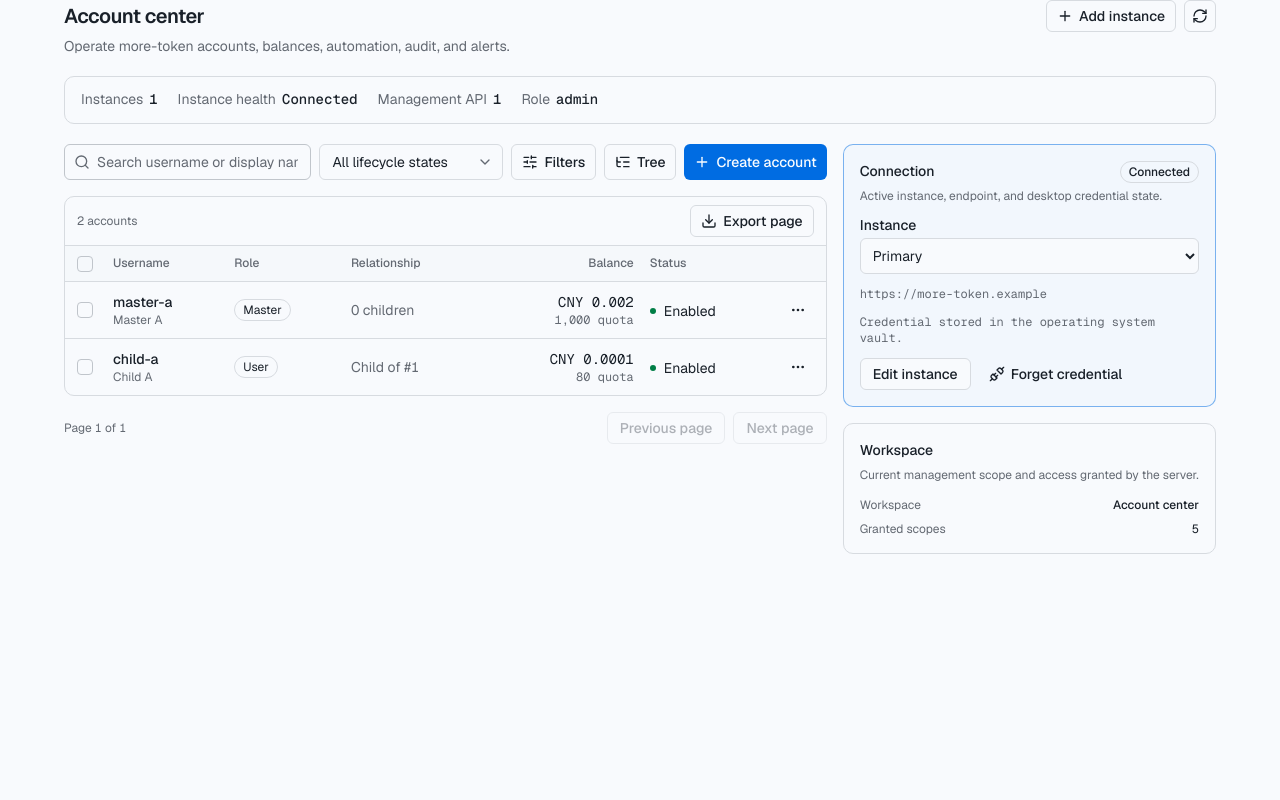
clears a shown temporary password so the next Create account starts blank
expect the table is shown: met, box x1=65 y1=246 x2=826 y2=395
Click the button "Create account": (756, 162) x1=684 y1=144 x2=827 y2=180
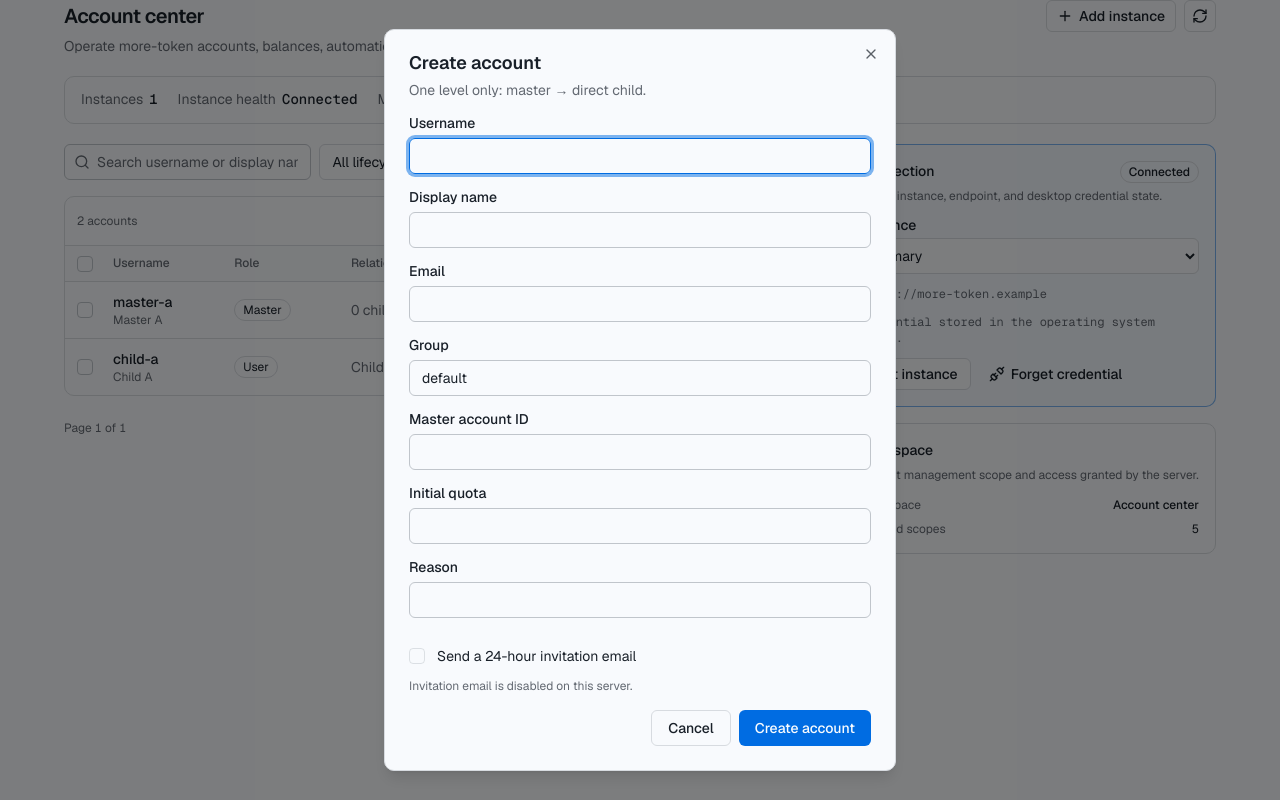
In the field labelled "Username": (640, 156) x1=409 y1=138 x2=871 y2=174, type "new-child"
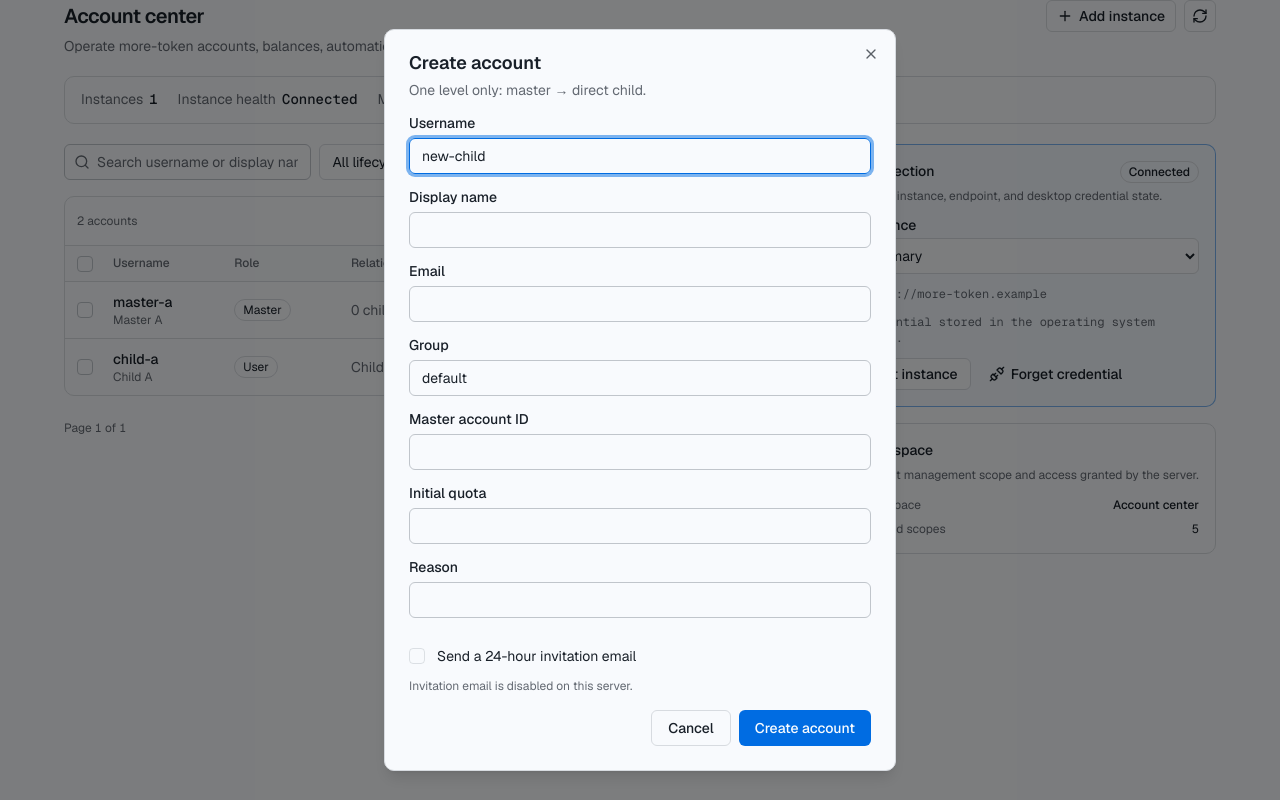
In the field labelled "Reason": (640, 600) x1=409 y1=582 x2=871 y2=618, type "provisioning"
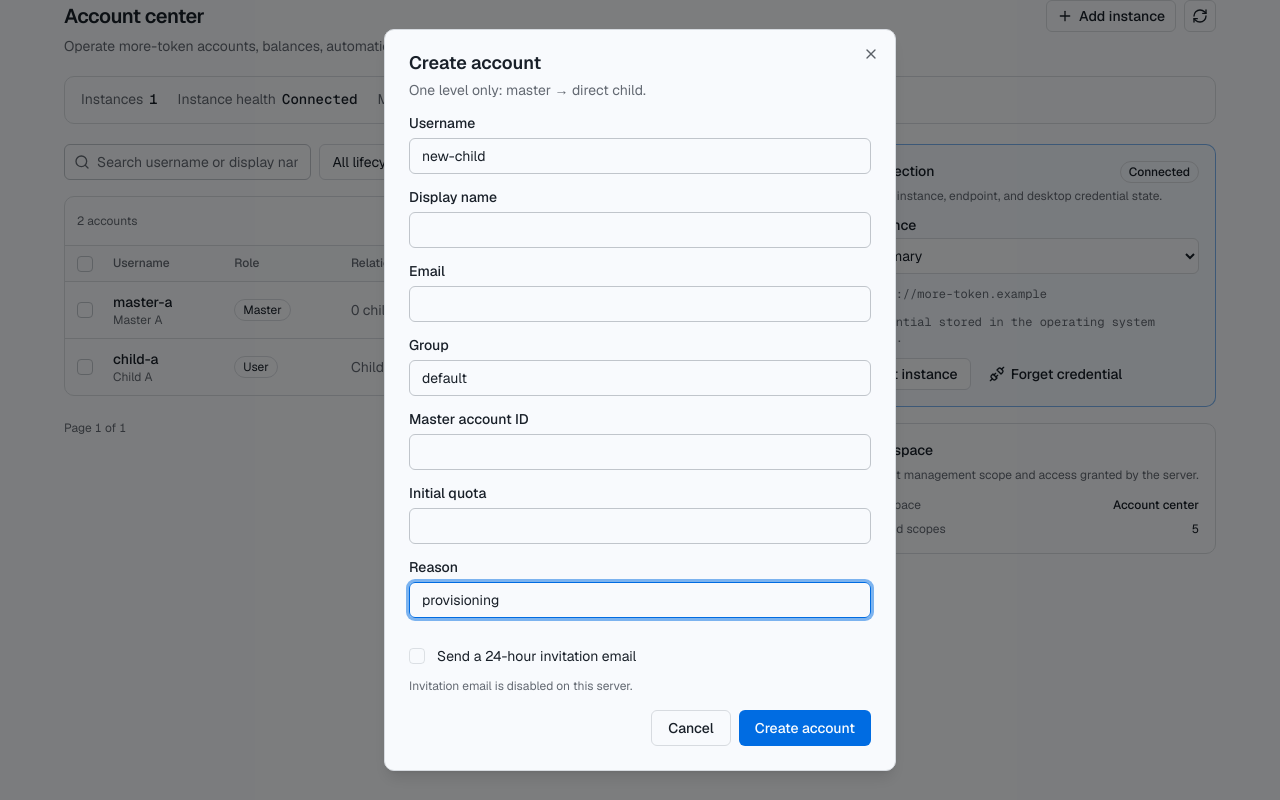
Click the button "Create account": (805, 728) x1=739 y1=710 x2=871 y2=746
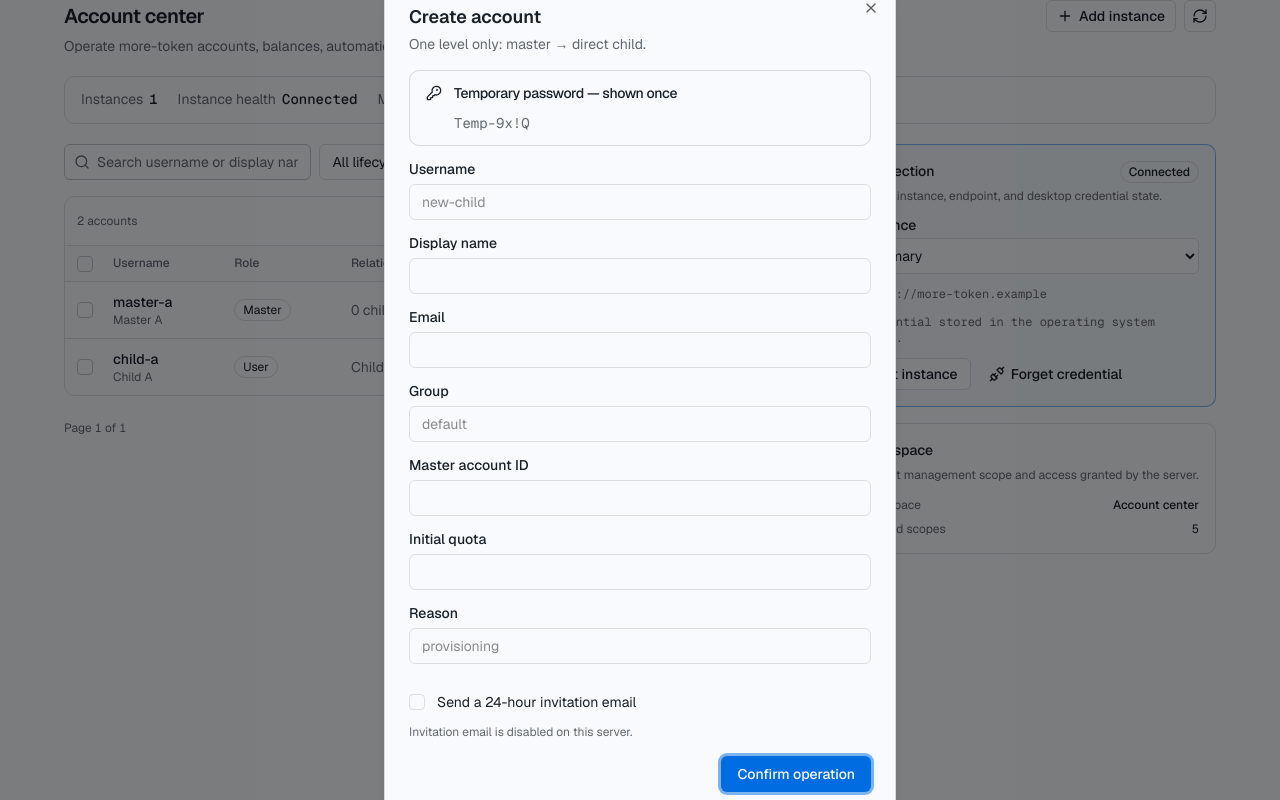
expect the text "Temp-9x!Q" is shown: met, box x1=454 y1=114 x2=530 y2=132
Click the button "Confirm operation": (796, 774) x1=722 y1=756 x2=871 y2=792
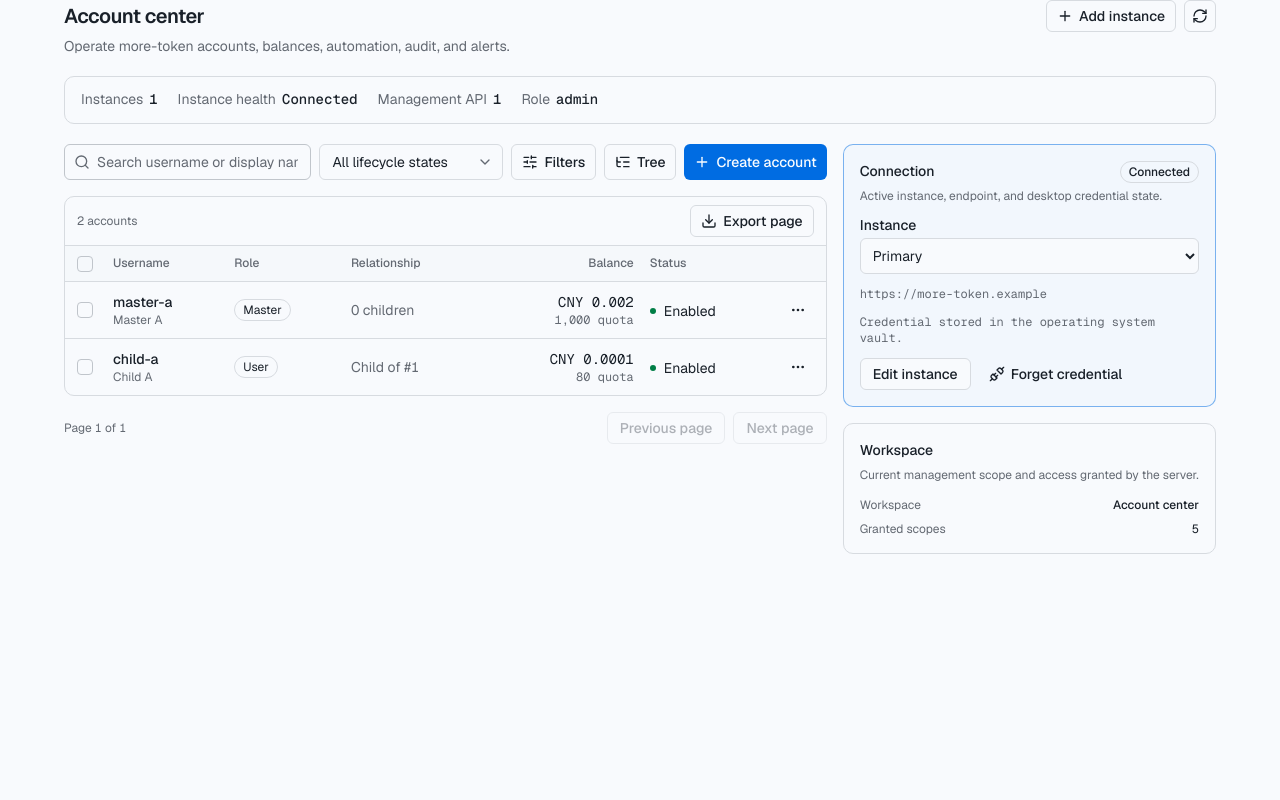
Click the button "Create account": (756, 162) x1=684 y1=144 x2=827 y2=180
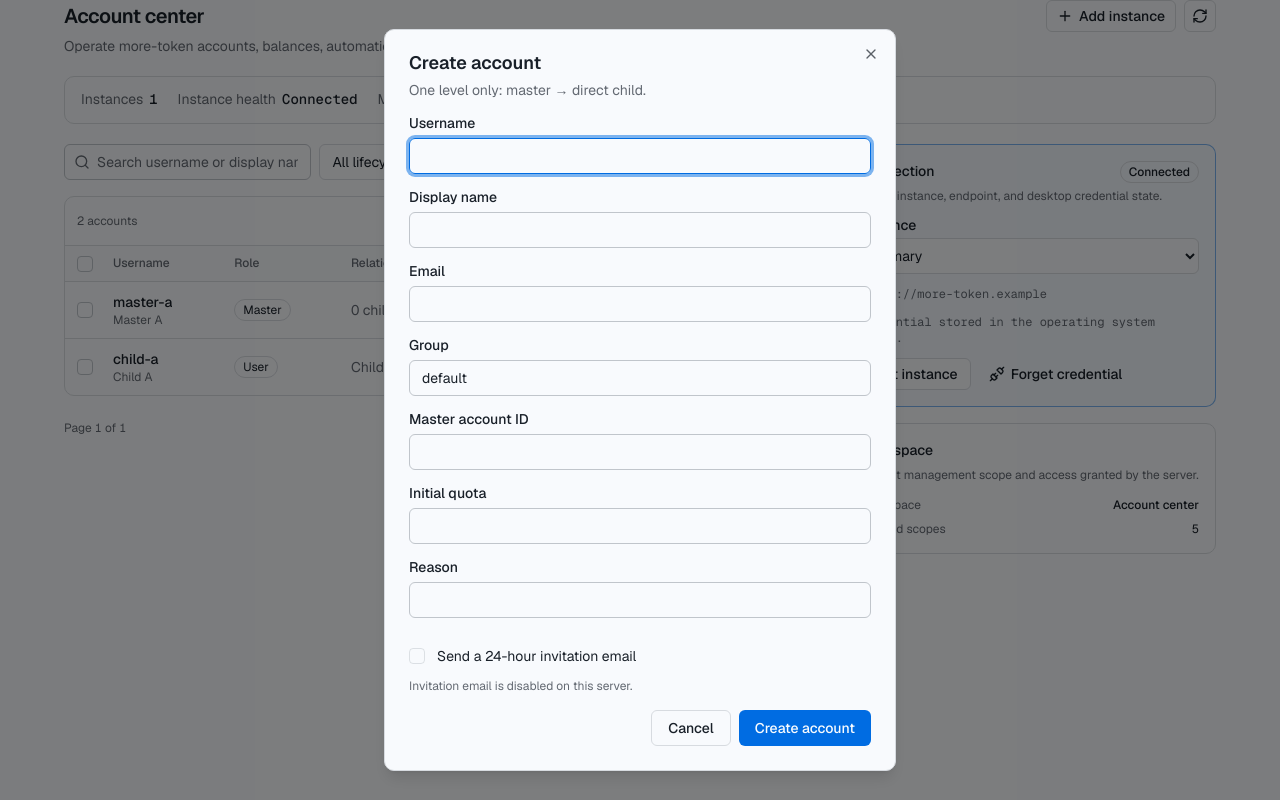
expect the text "Temp-9x!Q" is not shown: met
expect the field labelled "Username" is enabled: met, box x1=409 y1=138 x2=871 y2=174
